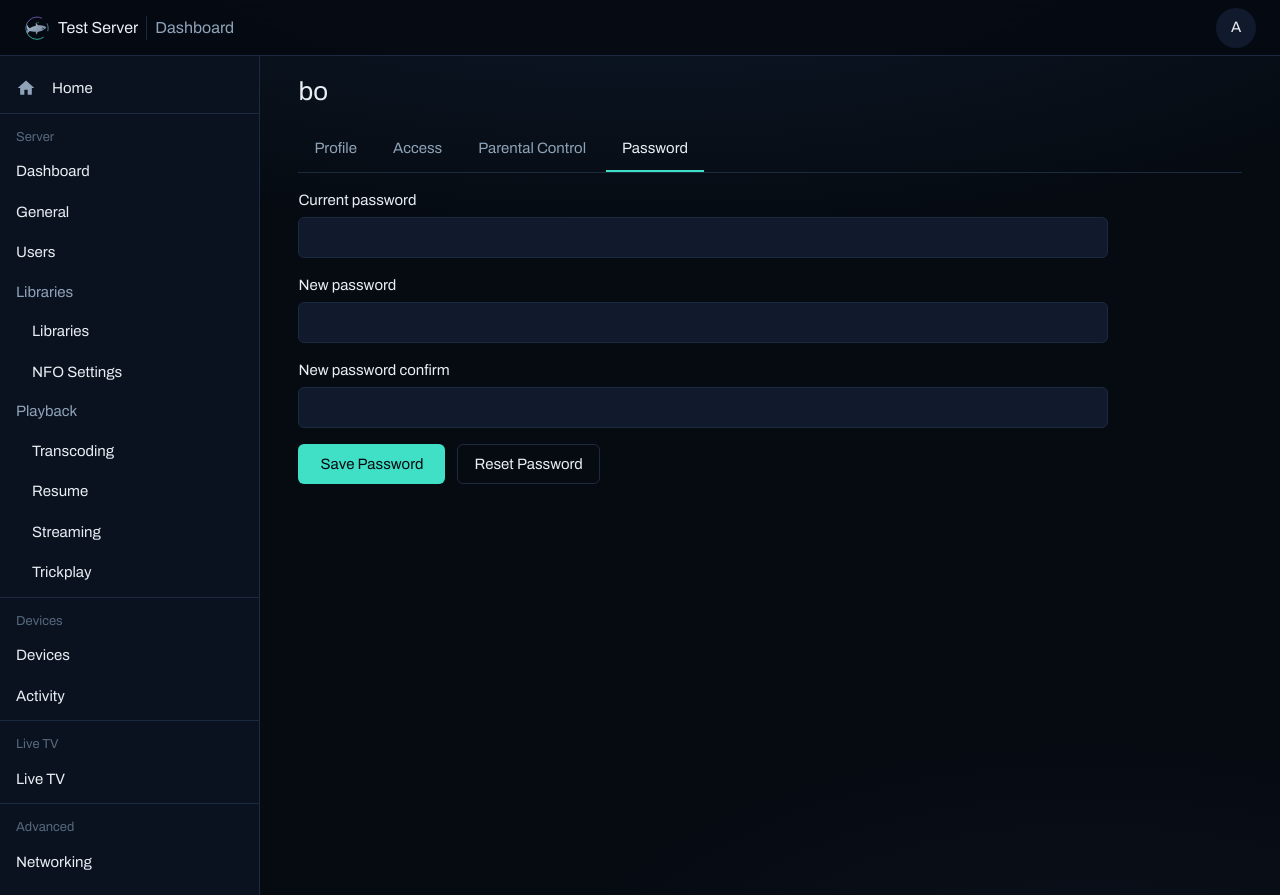
Test: dashboard users › password tab checks the confirmation before sending
The width and height of the screenshot is (1280, 895).
Type "a" into the password field labelled "New password" at (703, 322), box [298, 302, 1108, 342]
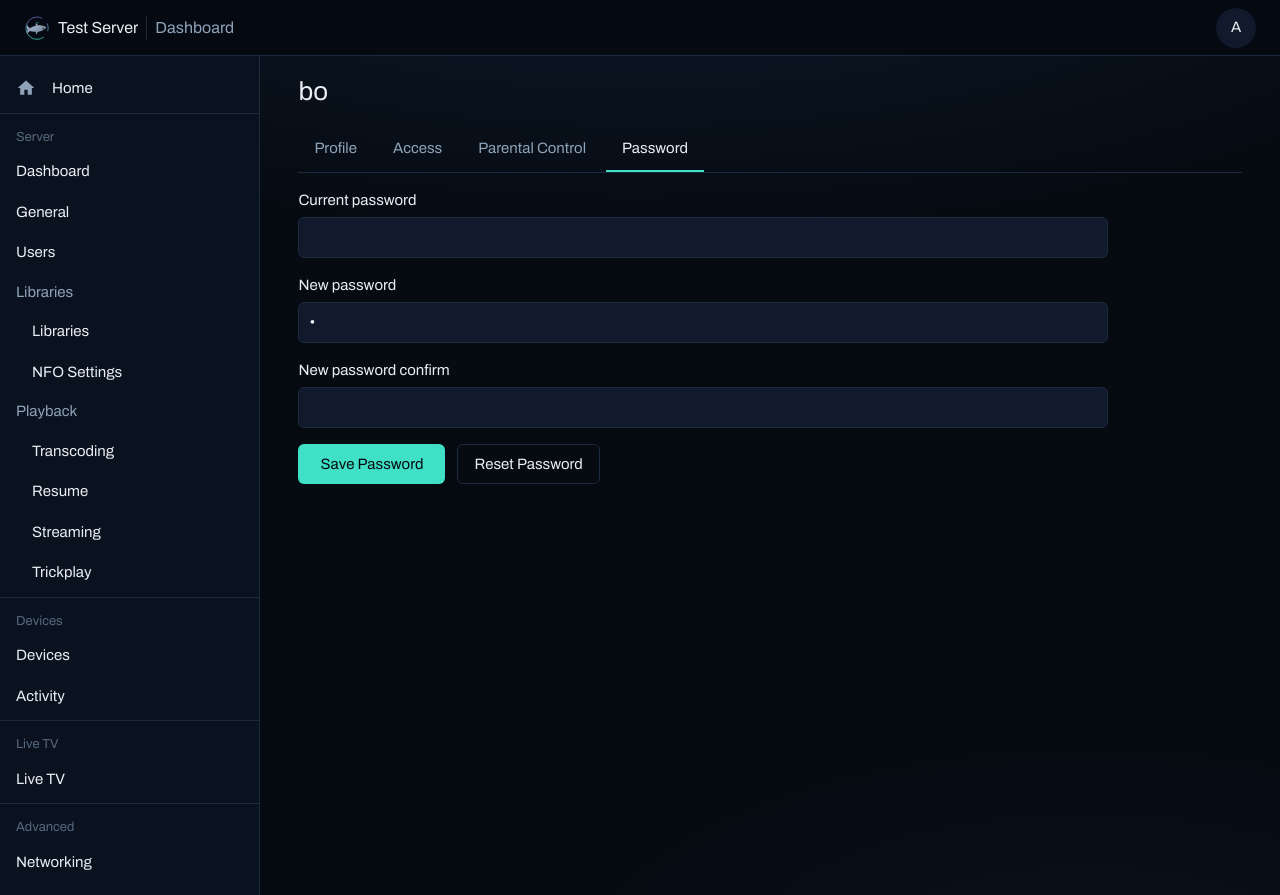
Type "b" into the password field labelled "New password confirm" at (703, 407), box [298, 387, 1108, 428]
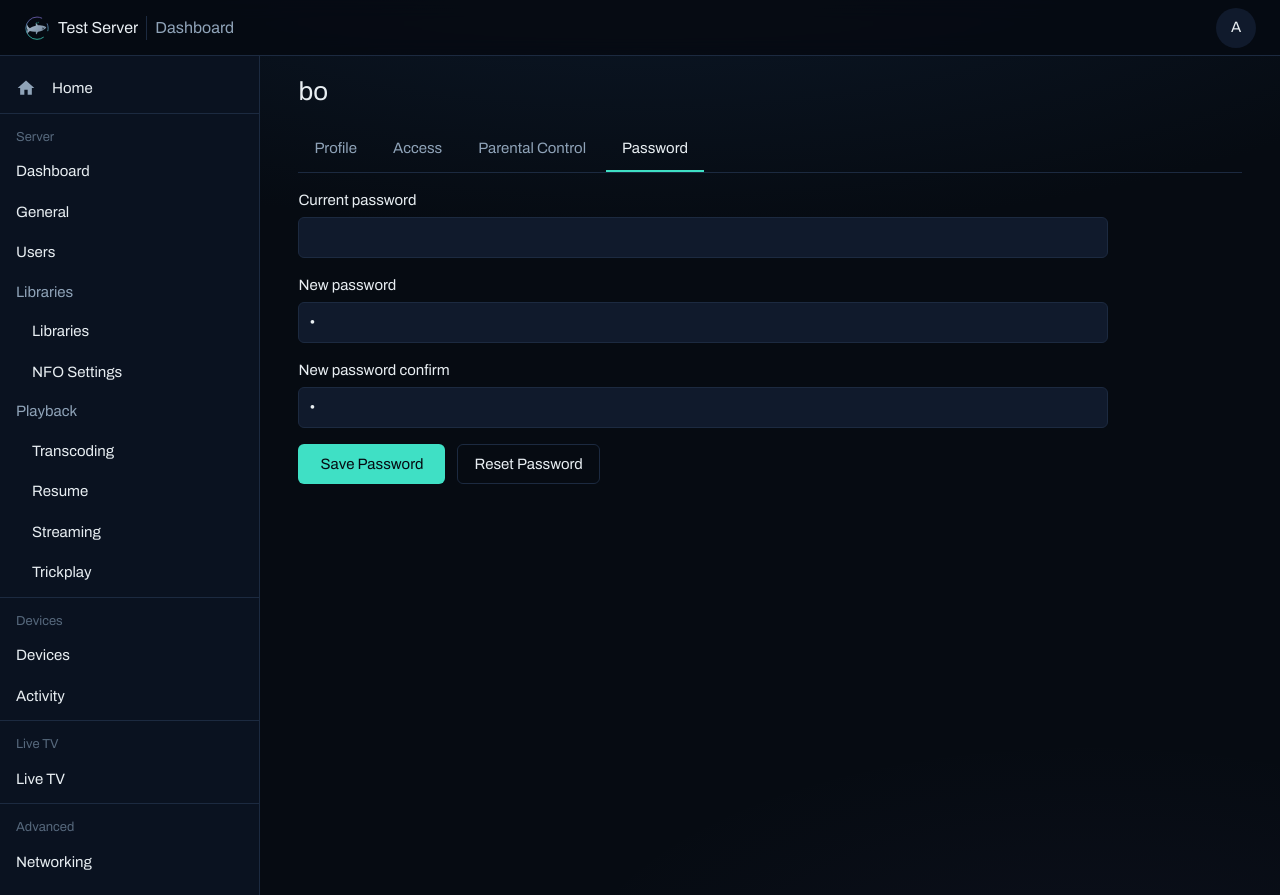
Click the button "Save Password" at (372, 464), box [298, 444, 446, 484]
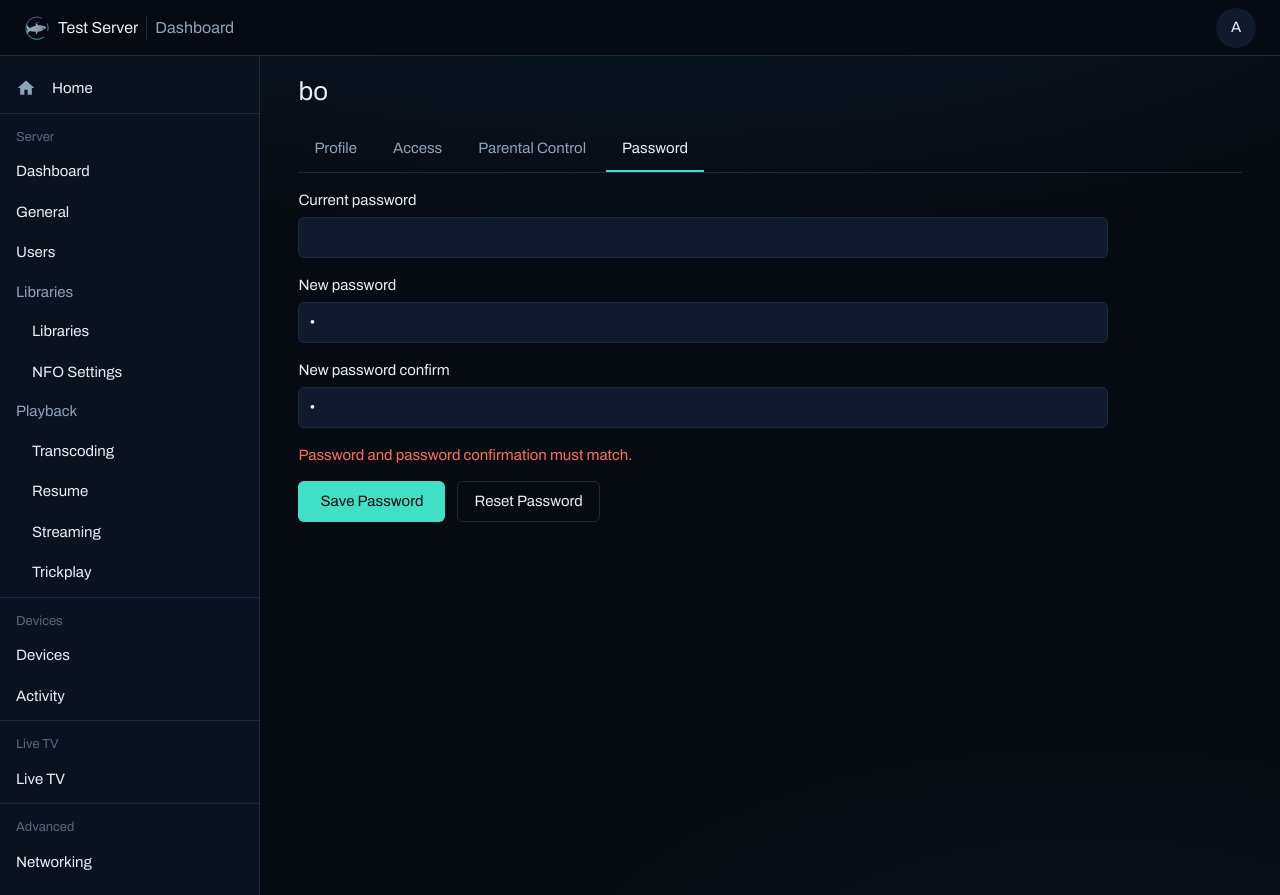
Expected: the text "Password and password confirmation must match." is shown, [298, 446, 632, 462]
